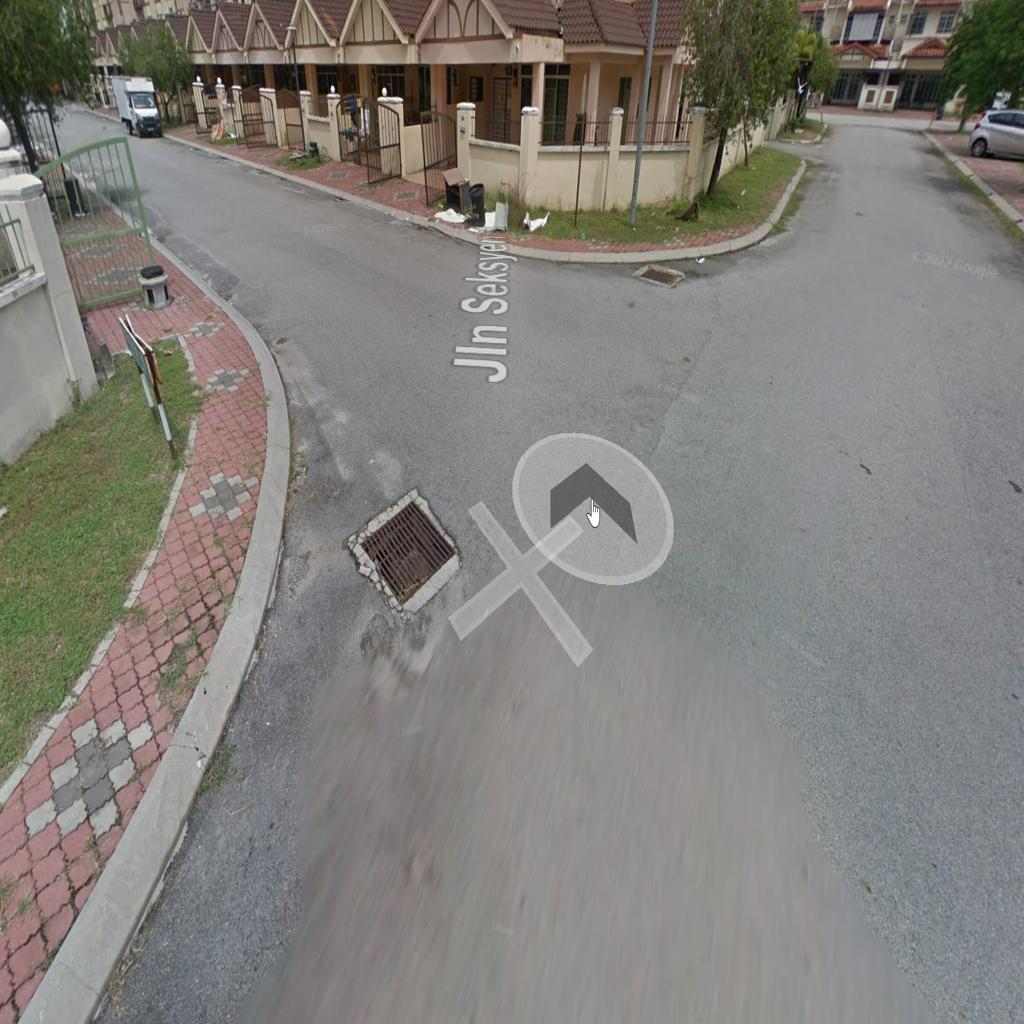Junction: (178, 206, 739, 705)
